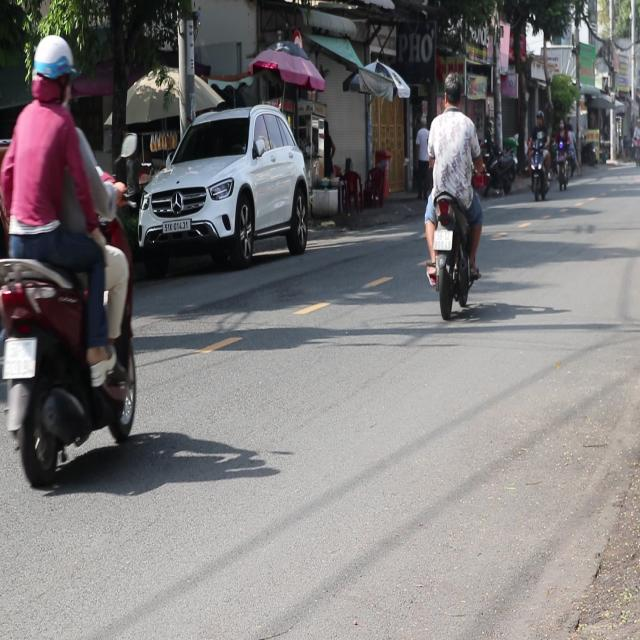helmet: (30, 33, 77, 109)
licenseplate: (0, 31, 141, 489), (421, 70, 485, 315)
motorcyclist: (442, 72, 463, 110)
nohelmet: (3, 337, 35, 376), (433, 228, 452, 250)
